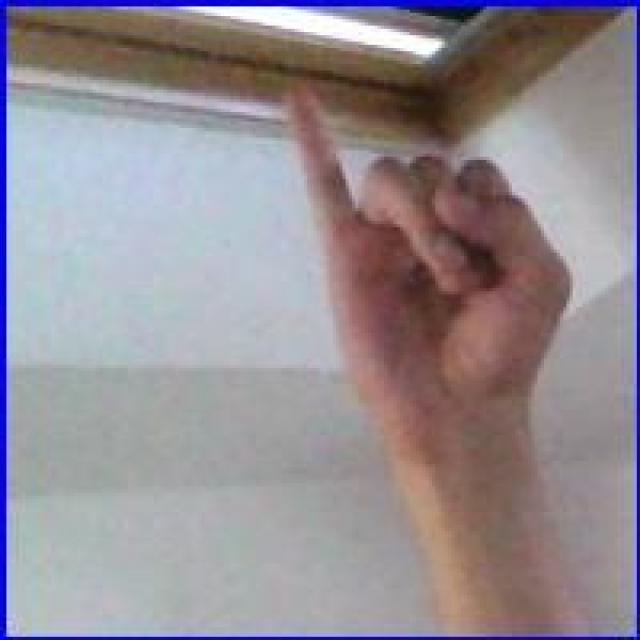J: (275, 80, 579, 448)
